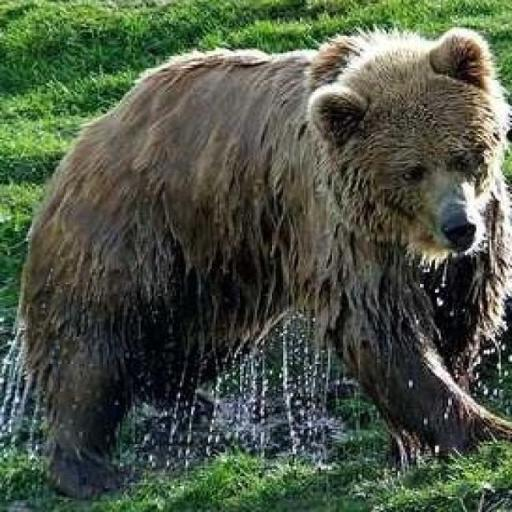Bear: (9, 24, 510, 500)
